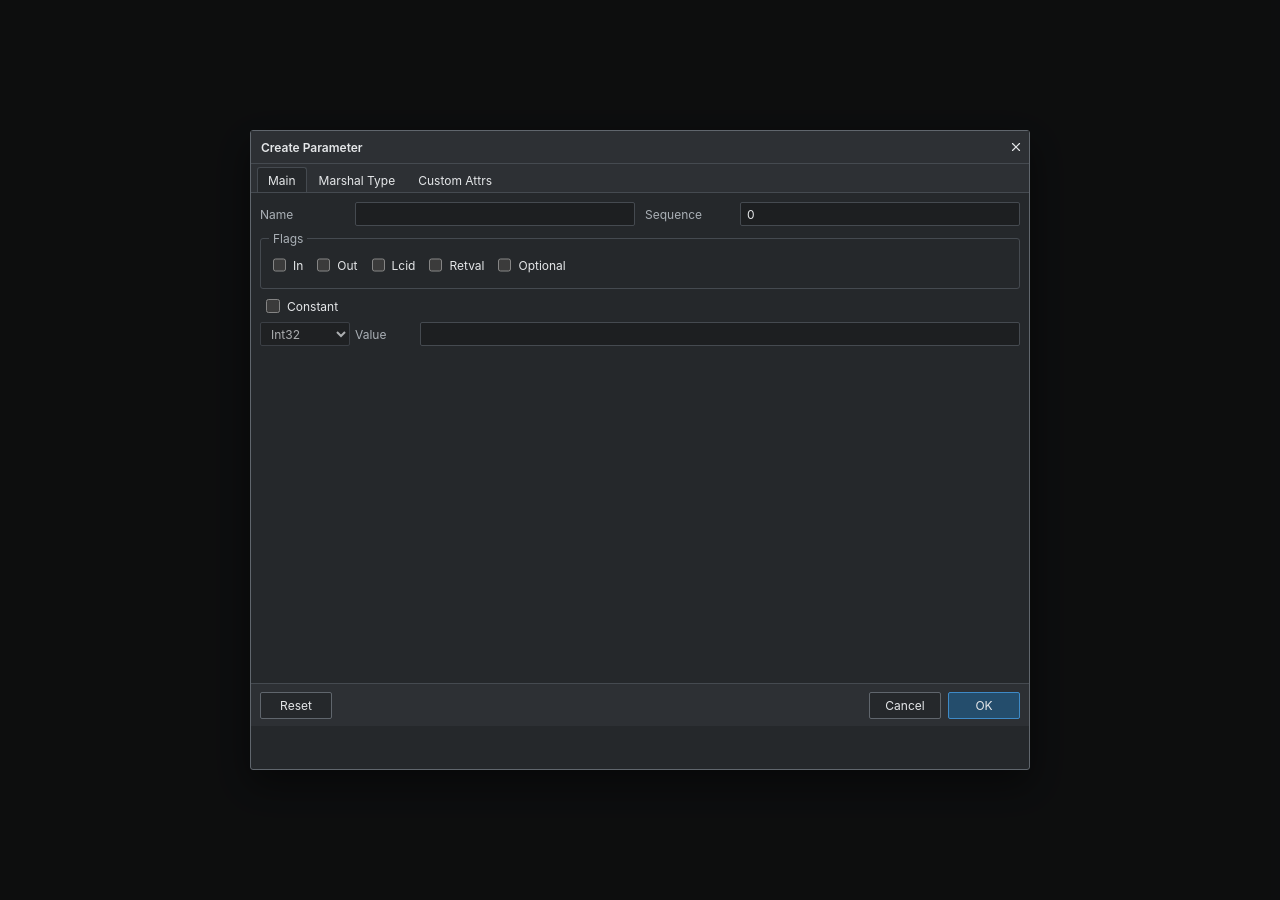
Test case: ParamDefDialog › says what the sequence box could not read and refuses to be accepted
Step 1. Replace the text in the field named "Sequence" with "x" → (880, 214), box [740,202,1020,226]
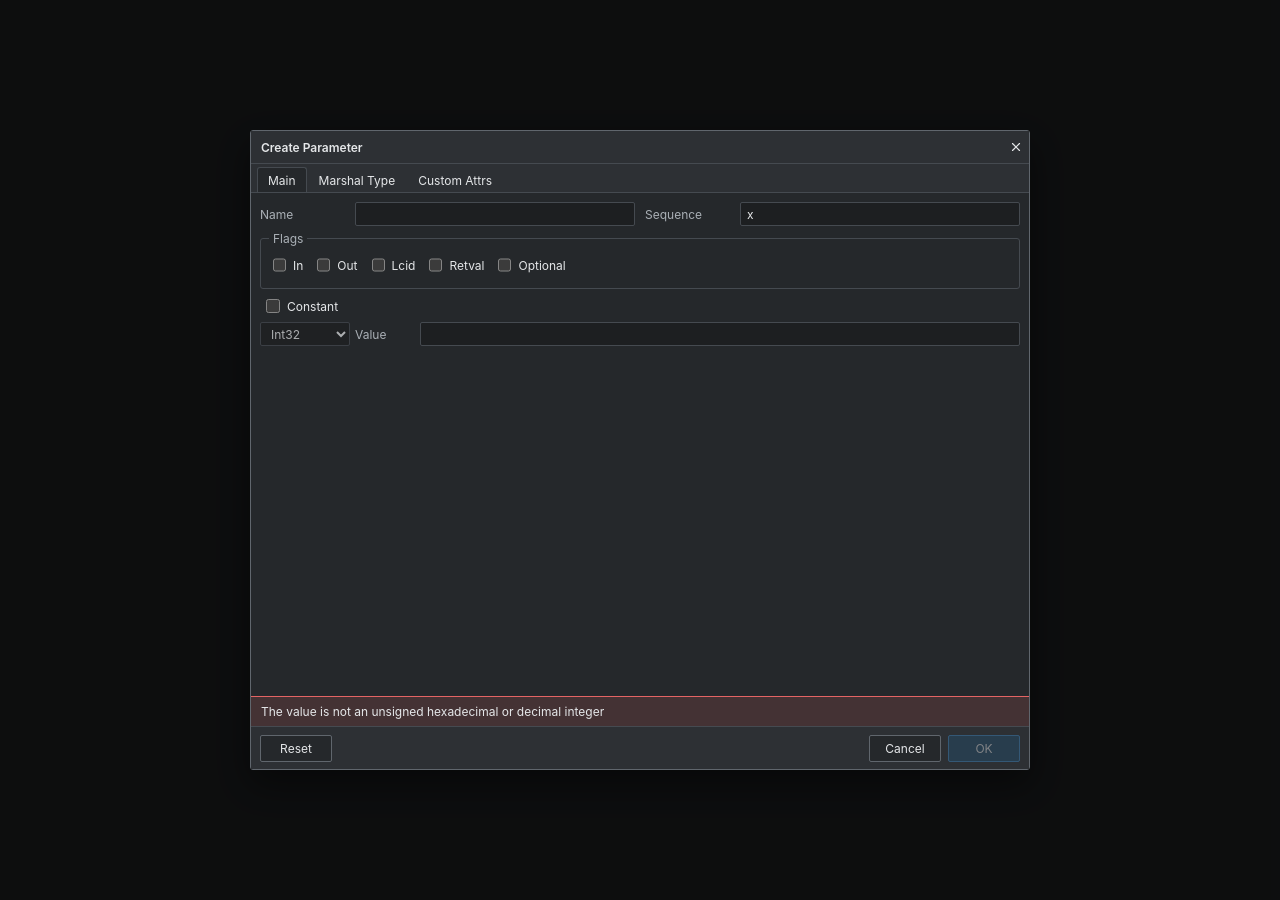
Result: the button "OK" is disabled at [948,734,1020,762]
Result: the text "The value is not an unsigned hexadecimal or decimal integer" is shown at [251,696,1029,726]
Step 2. Replace the text in the field named "Sequence" with "0xFF" → (880, 214), box [740,202,1020,226]
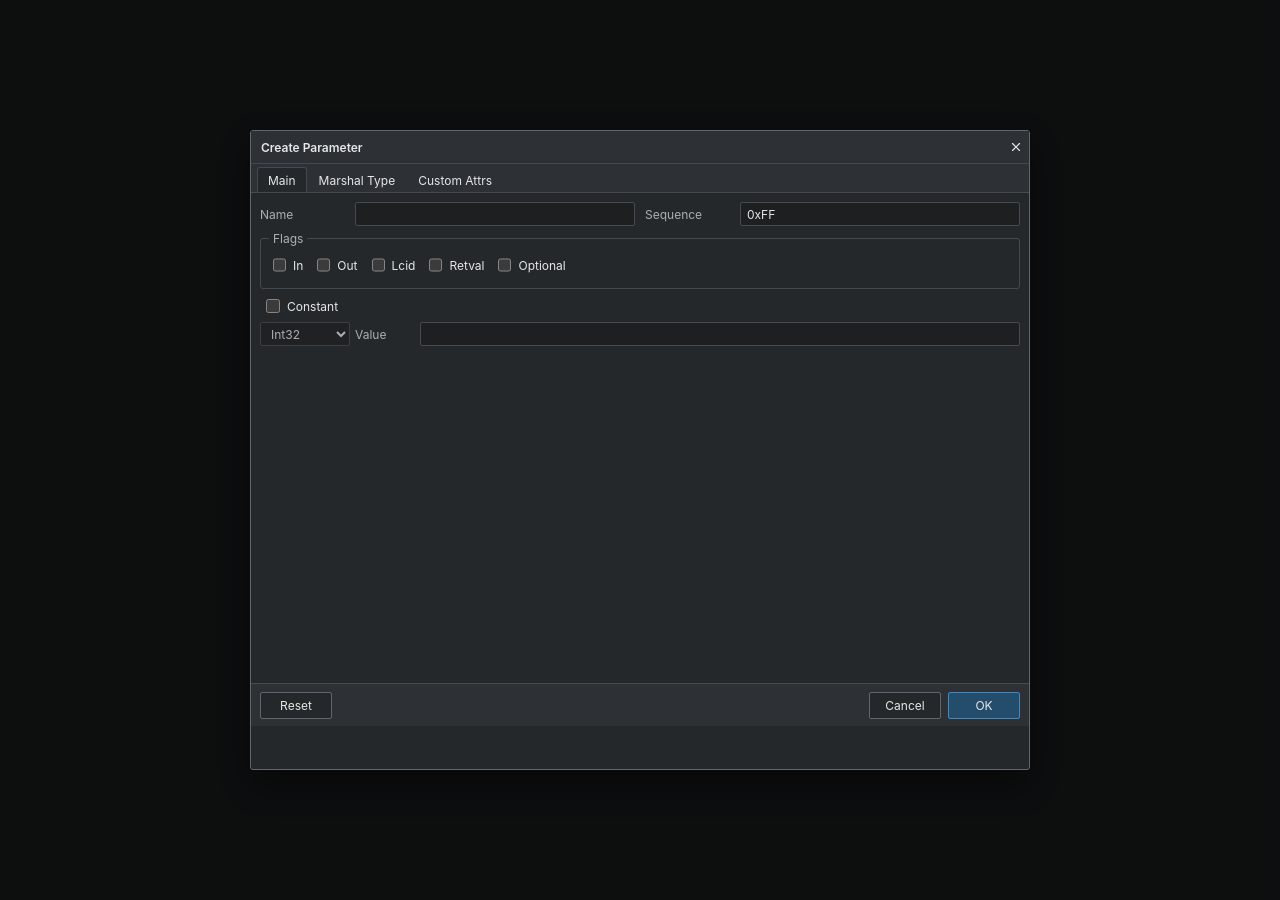
Result: the button "OK" is enabled at [948,692,1020,718]
